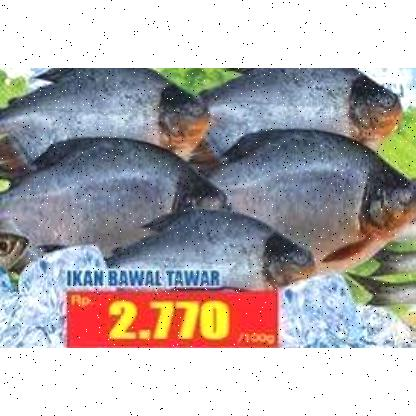ikan-pacu: (210, 132, 416, 272), (0, 140, 218, 254), (0, 68, 214, 172), (200, 67, 400, 149), (108, 209, 314, 288)
